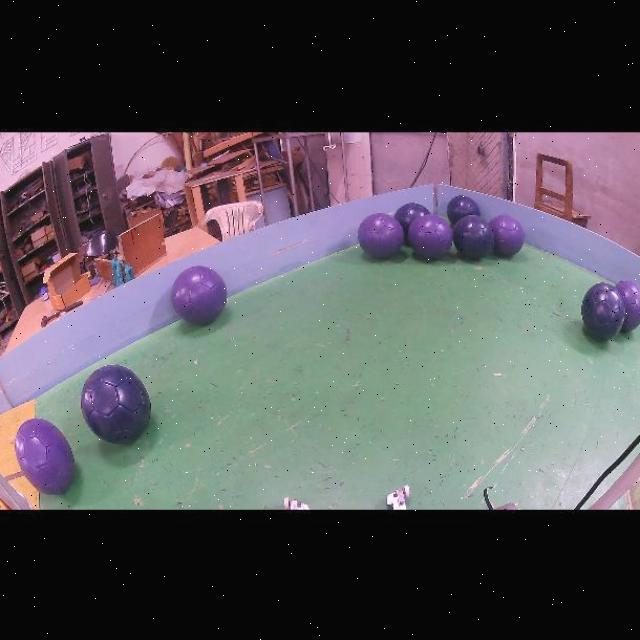B: (81, 365, 151, 445), (581, 282, 625, 341), (454, 215, 494, 260), (394, 203, 430, 244), (447, 195, 480, 226)
P: (14, 418, 74, 496), (172, 266, 227, 325), (358, 214, 404, 258), (408, 215, 454, 258), (489, 215, 524, 257), (615, 279, 640, 332)
